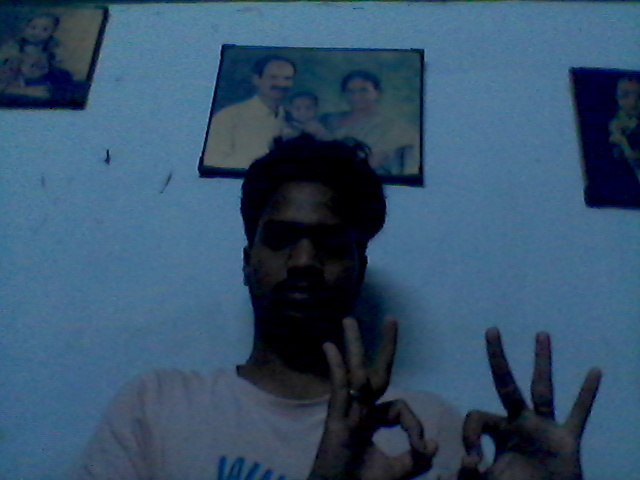How are you: (311, 315, 625, 480)
